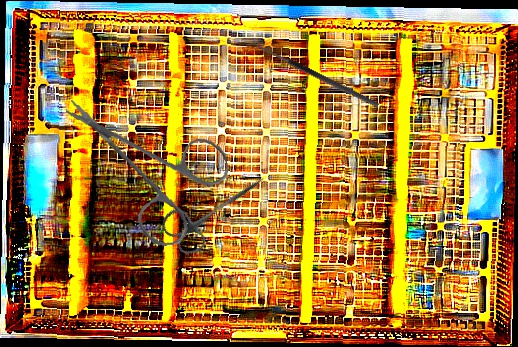Hook Surgical: (247, 40, 380, 115)
Iris Scissors: (64, 80, 238, 257), (157, 156, 277, 261)
